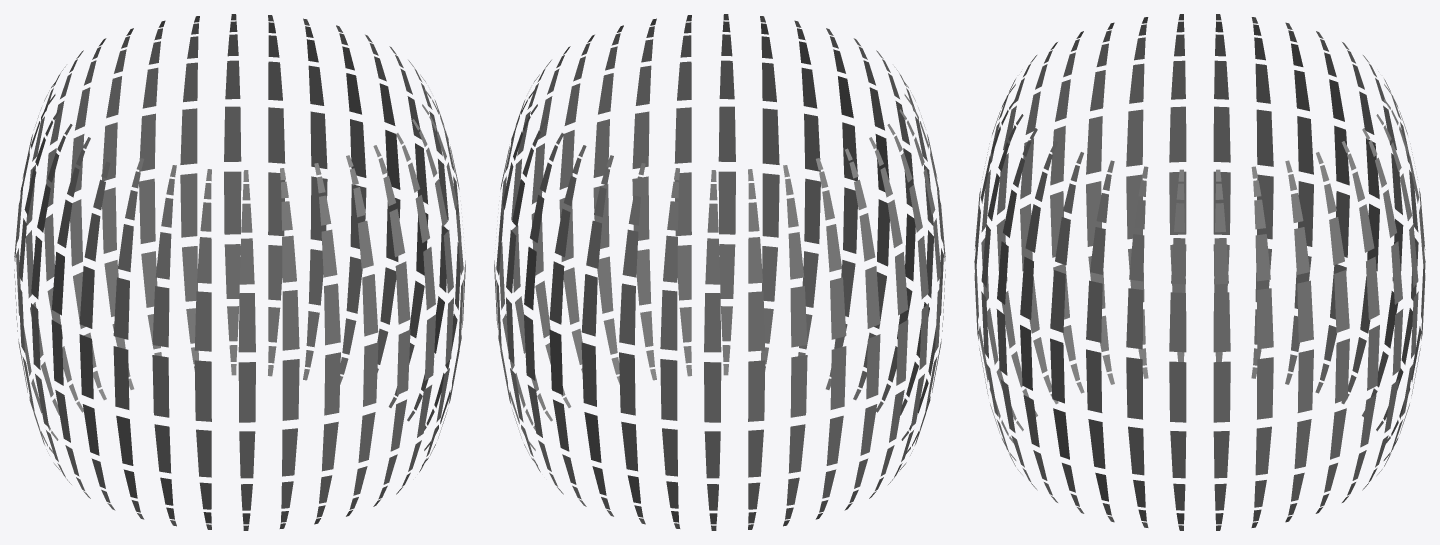
The model's file is oyes.glb.
3 renders of one model, left to right at view 1: azimuth 30°, elevation 25°; view 2: azimuth 150°, elevation 25°; view 3: azimuth 270°, elevation 25°, orthographic.
Parts seen in each view (by area): view 1: Sphere_0; view 2: Sphere_0; view 3: Sphere_0.
Boxes of the visible parts, x1,y1,x2,y2 form: Sphere_0: [14, 14, 465, 530]; Sphere_0: [494, 14, 945, 530]; Sphere_0: [974, 14, 1425, 530].
Size of the model in its own units: 1.5 by 1.33 by 1.5.
1 material, 1 textured.
